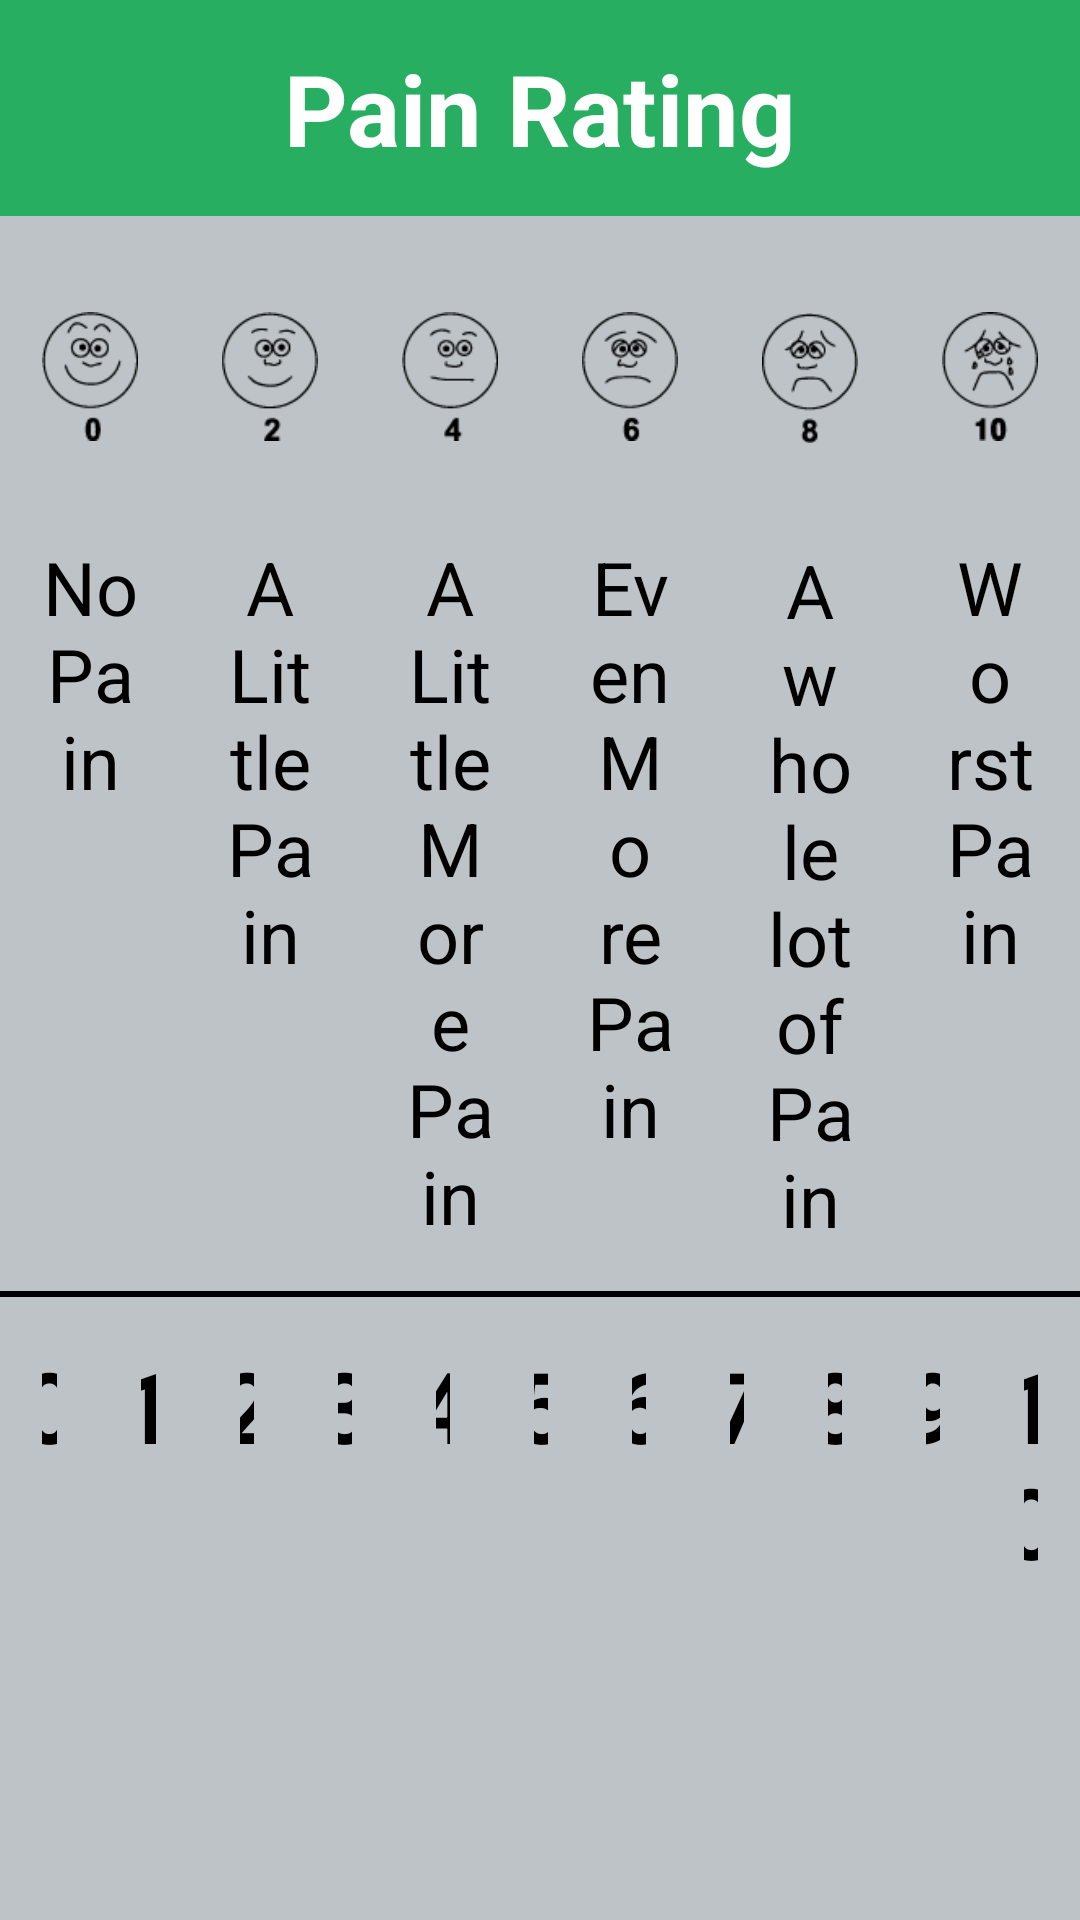

Icon bounding boxes for this 1080*1920 phone screenshot, format detection(x1, y1, x2, y2):
face: detection(42, 312, 138, 441), detection(222, 312, 318, 441), detection(402, 312, 498, 441), detection(582, 312, 678, 441), detection(942, 312, 1038, 441), detection(762, 313, 858, 443)
